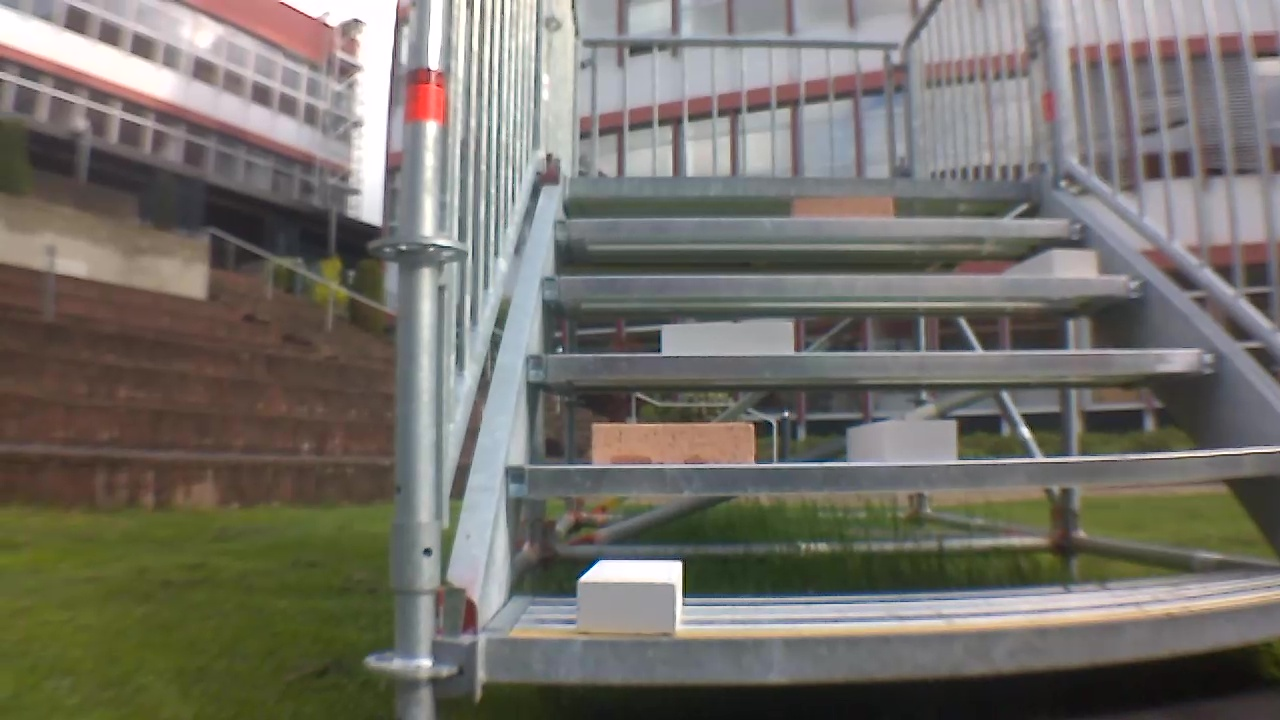brick: (578, 560, 684, 632), (592, 423, 752, 464), (847, 421, 957, 462), (661, 322, 792, 355), (1007, 249, 1096, 276), (793, 196, 892, 216)
edge: (478, 602, 1280, 683), (508, 452, 1280, 494), (529, 350, 1214, 377), (546, 275, 1143, 295), (558, 218, 1085, 236), (570, 176, 1033, 195)
stairs: (380, 1, 1280, 714)
steps: (463, 165, 1280, 696)
